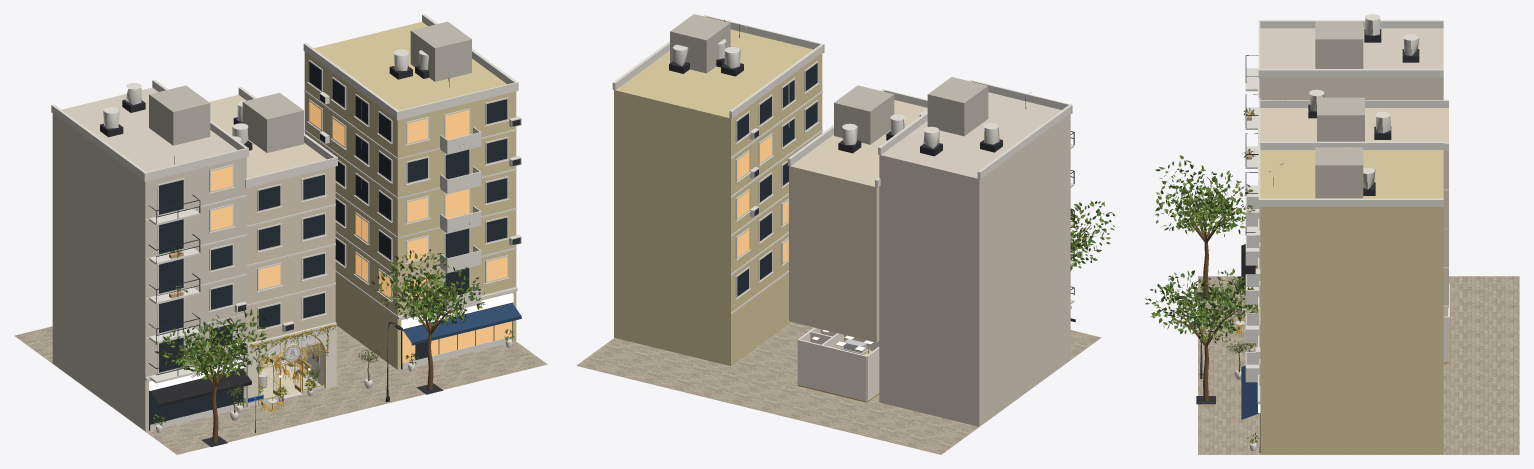
Rendered from salon-75_lod1.glb.
The picture shows the model from 3 angles, left to right: view 1: azimuth 30°, elevation 25°; view 2: azimuth 150°, elevation 25°; view 3: azimuth 270°, elevation 25°; orthographic projection.
Visible parts, largest first — view 1: bw1, bw4, bwtrim, win, paving, facade_hi, bw3, win_lit_n, leaf, leaf2, iron, aw_b (+7 smaller); view 2: bw1, bw4, facade_hi, paving, bwtrim, bw3, plaster, win, iron, win_lit_n, leaf, leaf2; view 3: bw4, paving, bwtrim, bw1, bw3, facade_hi, leaf, leaf2, iron, trunk, aw_b, plaster.
Part boxes in pixels (box(x1,y1,x2,y2)): bw1: box(52, 87, 246, 431); bw4: box(304, 22, 516, 369); bwtrim: box(51, 14, 521, 430); win: box(150, 62, 507, 424); paving: box(14, 325, 547, 454); facade_hi: box(209, 95, 335, 343); bw3: box(149, 21, 471, 152); win_lit_n: box(211, 101, 512, 363); leaf: box(153, 144, 514, 425); leaf2: box(153, 146, 513, 425); iron: box(100, 65, 520, 447); aw_b: box(403, 303, 521, 345); bw1: box(879, 92, 1070, 426); bw4: box(614, 29, 822, 365); facade_hi: box(789, 100, 927, 342); paving: box(576, 322, 1101, 454); bwtrim: box(612, 15, 1074, 322); bw3: box(670, 14, 988, 144); plaster: box(797, 327, 879, 402); win: box(737, 63, 817, 296); iron: box(669, 20, 1074, 295); win_lit_n: box(737, 135, 788, 262); leaf: box(1070, 201, 1112, 269); leaf2: box(1070, 201, 1115, 271); bw4: box(1260, 150, 1443, 454); paving: box(1198, 276, 1519, 454); bwtrim: box(1245, 14, 1448, 452); bw1: box(1260, 28, 1443, 100); bw3: box(1315, 21, 1364, 198); facade_hi: box(1260, 108, 1448, 305); leaf: box(1145, 108, 1258, 443); leaf2: box(1145, 108, 1258, 443); iron: box(1175, 29, 1419, 452); trunk: box(1170, 183, 1257, 401); aw_b: box(1241, 365, 1258, 419); plaster: box(1443, 283, 1449, 362).
Size of the model in its own units: 30.89 by 22.09 by 26.63.
Materials: 70 (21 with a texture image).
